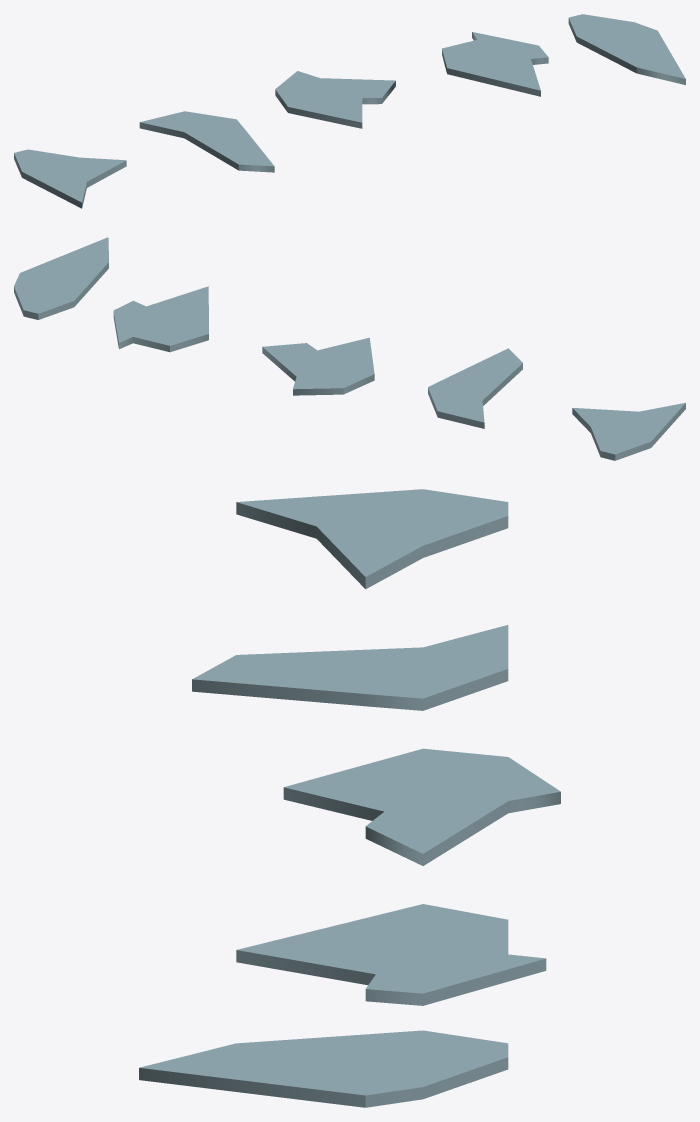
Rendered from Shards.fbx.
3 views of the same model, one above another, from view 1: azimuth 30°, elevation 25°; view 2: azimuth 150°, elevation 25°; view 3: azimuth 270°, elevation 25° (orthographic). The views are drawn at different scales.
Visible parts, largest first — view 1: pasted__pasted__pCube1 (×2), pasted__pCube1 (×2), pCube1; view 2: pasted__pasted__pCube1 (×2), pasted__pCube1 (×2), pCube1; view 3: pasted__pasted__pCube1 (×2), pasted__pCube1 (×2), pCube1.
Part boxes in pixels (bbox=[...]): pasted__pasted__pCube1 (×2): bbox=[275, 32, 548, 128]; pasted__pCube1 (×2): bbox=[139, 14, 685, 172]; pCube1: bbox=[14, 149, 126, 208]; pasted__pasted__pCube1 (×2): bbox=[113, 286, 374, 395]; pasted__pCube1 (×2): bbox=[14, 237, 522, 428]; pCube1: bbox=[572, 402, 685, 460]; pasted__pasted__pCube1 (×2): bbox=[236, 748, 560, 1005]; pasted__pCube1 (×2): bbox=[139, 625, 508, 1107]; pCube1: bbox=[236, 489, 508, 589].
Bounding box in the file's own units: 345 × 3.27 × 102.
